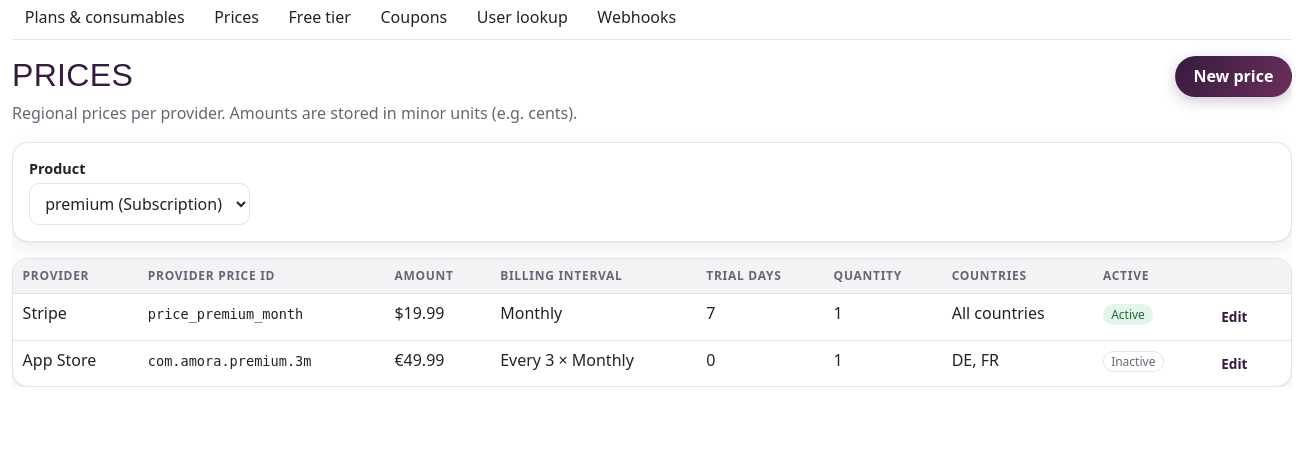
Test: PricesPage › switches products and shows the empty state
Expected: the text "price_premium_month" is shown, [148, 306, 303, 322]
Select "boost_1 (Consumable)" in the dropdown labelled "Product". click: (140, 204)
box: [29, 183, 250, 225]
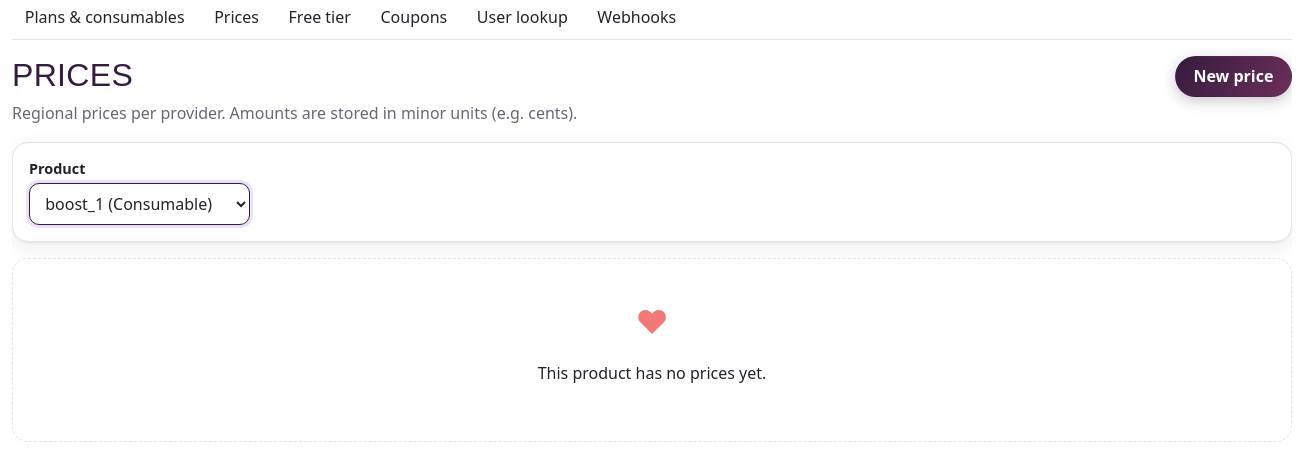
Expected: the text "This product has no prices yet." is shown, [538, 362, 766, 384]
